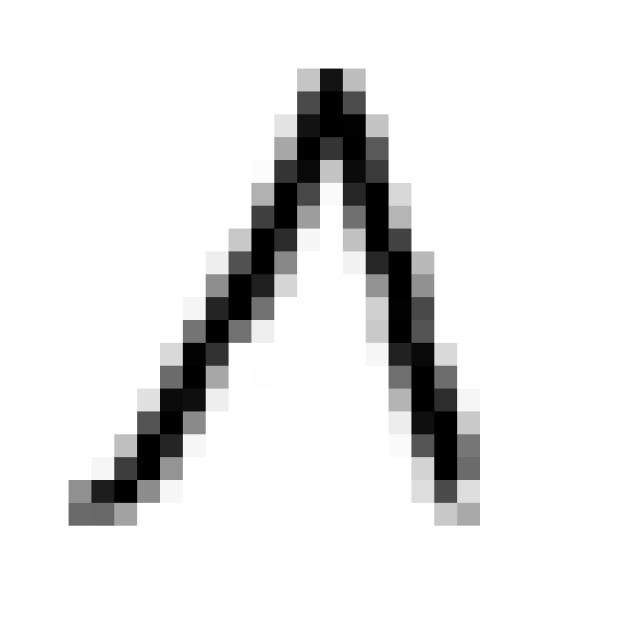8 -eight-: (46, 43, 492, 536)
